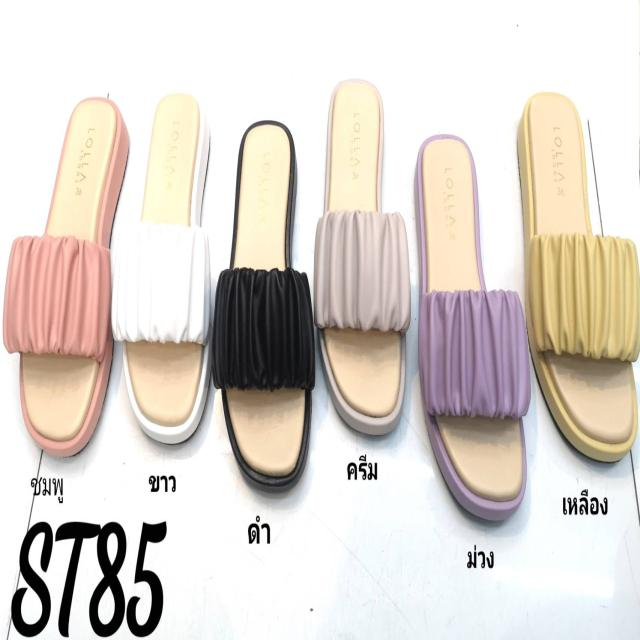black: (224, 122, 310, 496)
cream: (318, 76, 413, 440)
pink: (14, 96, 130, 451)
purple: (415, 135, 525, 513)
white: (126, 92, 212, 438)
yellow: (522, 95, 637, 463)
